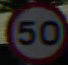Speed limit: (7, 4, 64, 57)
